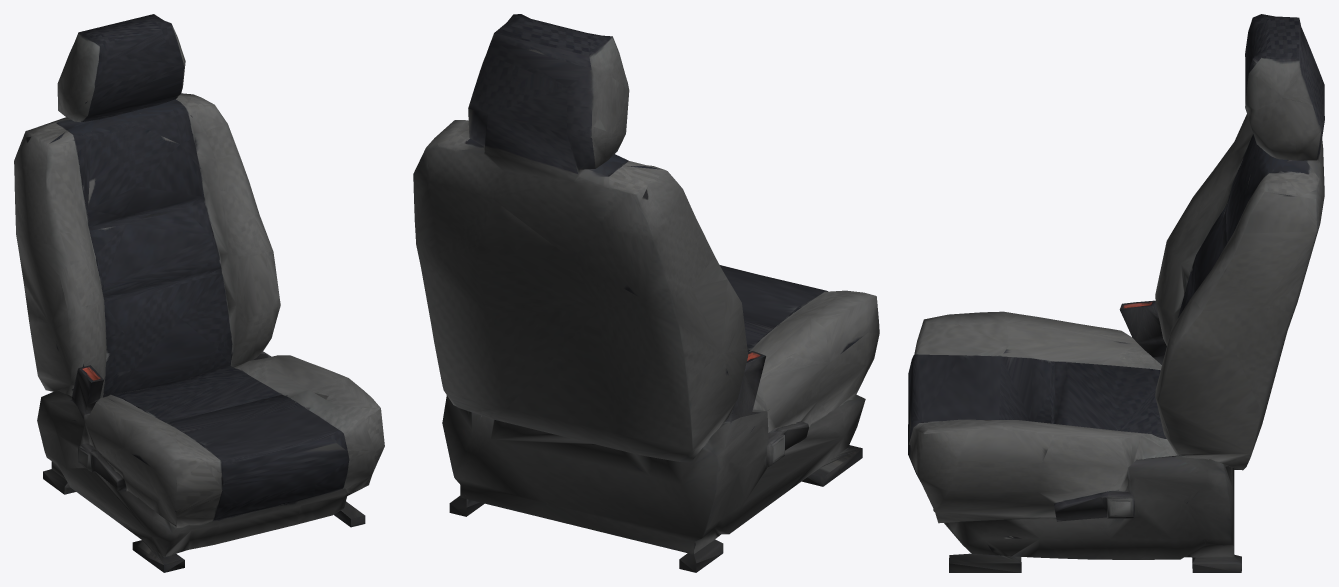
File: SM_Ini_CarSeatFront.fbx
3 renders of one model, left to right at view 1: azimuth 30°, elevation 25°; view 2: azimuth 150°, elevation 25°; view 3: azimuth 270°, elevation 25°, orthographic. The views are drawn at different scales.
Visible parts, largest first — view 1: CarSeatFront; view 2: CarSeatFront; view 3: CarSeatFront.
Part boxes in pixels (<box>): CarSeatFront: <box>14,14,384,572</box>; CarSeatFront: <box>413,14,879,572</box>; CarSeatFront: <box>908,14,1324,572</box>.
Size of the model in its own units: 0.6112 by 1.1 by 0.8579.
1 material, 1 textured.
